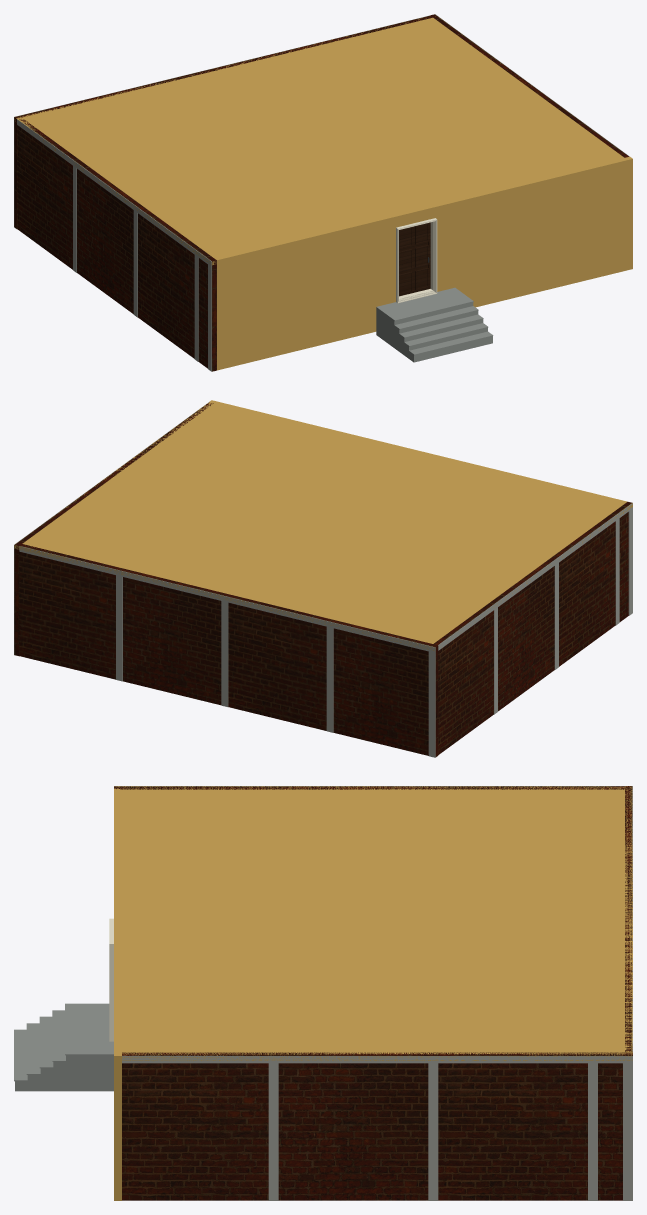
Rendered from building.glb.
3 views of the same model, one above another, from view 1: azimuth 30°, elevation 25°; view 2: azimuth 150°, elevation 25°; view 3: azimuth 270°, elevation 25° (orthographic). The views are drawn at different scales.
Parts seen in each view (by area): view 1: roof/house:0/roof_slab#0001, house:0/edge0/z0/house:0/edge0/z0/wall_0_0, house:0/edge3/z0/house:0/edge3/z0/wall_0_0, entrance/escalinata_ancha/entrance_steps#0001, house:0/edge2/z0/house:0/edge2/z0/wall_0_0, house:0/edge3/z0/house:0/edge3/z0/beam_0_0, house:0/edge1/z0/house:0/edge1/z0/wall_0_0, house:0/edge3/z0/house:0/edge3/z0/column_3_0, house:0/edge3/z0/house:0/edge3/z0/column_4_0; view 2: roof/house:0/roof_slab#0001, house:0/edge2/z0/house:0/edge2/z0/wall_0_0, house:0/edge3/z0/house:0/edge3/z0/wall_0_0, house:0/edge2/z0/house:0/edge2/z0/beam_0_0, house:0/edge1/z0/house:0/edge1/z0/wall_0_0, house:0/edge0/z0/house:0/edge0/z0/wall_0_0, house:0/edge3/z0/house:0/edge3/z0/beam_0_0, house:0/edge2/z0/house:0/edge2/z0/column_1_0, house:0/edge2/z0/house:0/edge2/z0/column_4_0, house:0/edge2/z0/house:0/edge2/z0/column_3_0, house:0/edge2/z0/house:0/edge2/z0/column_2_0, house:0/edge3/z0/house:0/edge3/z0/column_4_0 (+2 smaller); view 3: roof/house:0/roof_slab#0001, house:0/edge1/z0/house:0/edge1/z0/wall_0_0, entrance/escalinata_ancha/entrance_steps#0001, house:0/edge1/z0/house:0/edge1/z0/beam_0_0, house:0/edge0/z0/house:0/edge0/z0/wall_0_0, house:0/edge3/z0/house:0/edge3/z0/wall_0_0, house:0/edge2/z0/house:0/edge2/z0/wall_0_0, house:0/edge1/z0/house:0/edge1/z0/column_2_0, house:0/edge1/z0/house:0/edge1/z0/column_3_0, house:0/edge1/z0/house:0/edge1/z0/column_1_0, house:0/edge1/z0/house:0/edge1/z0/column_4_0, house:0/edge0/z0/opening_u7.00_v0.90/door_moulding#0028.
Part boxes in pixels (x1,y1,x2,y2): roof/house:0/roof_slab#0001: (14,16,632,265); house:0/edge0/z0/house:0/edge0/z0/wall_0_0: (214,156,632,370); house:0/edge3/z0/house:0/edge3/z0/wall_0_0: (17,119,216,371); entrance/escalinata_ancha/entrance_steps#0001: (376,287,492,362); house:0/edge2/z0/house:0/edge2/z0/wall_0_0: (14,15,432,228); house:0/edge3/z0/house:0/edge3/z0/beam_0_0: (17,119,211,266); house:0/edge1/z0/house:0/edge1/z0/wall_0_0: (430,14,628,157); house:0/edge3/z0/house:0/edge3/z0/column_3_0: (133,210,137,317); house:0/edge3/z0/house:0/edge3/z0/column_4_0: (194,255,198,361); roof/house:0/roof_slab#0001: (14,400,632,650); house:0/edge2/z0/house:0/edge2/z0/wall_0_0: (19,544,438,757); house:0/edge3/z0/house:0/edge3/z0/wall_0_0: (433,501,632,754); house:0/edge2/z0/house:0/edge2/z0/beam_0_0: (19,546,435,652); house:0/edge1/z0/house:0/edge1/z0/wall_0_0: (14,402,213,655); house:0/edge0/z0/house:0/edge0/z0/wall_0_0: (209,400,626,503); house:0/edge3/z0/house:0/edge3/z0/beam_0_0: (438,503,632,650); house:0/edge2/z0/house:0/edge2/z0/column_1_0: (428,651,435,757); house:0/edge2/z0/house:0/edge2/z0/column_4_0: (326,626,333,732); house:0/edge2/z0/house:0/edge2/z0/column_3_0: (221,601,228,706); house:0/edge2/z0/house:0/edge2/z0/column_2_0: (116,575,122,681); house:0/edge3/z0/house:0/edge3/z0/column_4_0: (615,518,619,625); roof/house:0/roof_slab#0001: (114,786,632,1061); house:0/edge1/z0/house:0/edge1/z0/wall_0_0: (122,1052,632,1200); entrance/escalinata_ancha/entrance_steps#0001: (15,1003,113,1091); house:0/edge1/z0/house:0/edge1/z0/beam_0_0: (122,1055,632,1063); house:0/edge0/z0/house:0/edge0/z0/wall_0_0: (114,789,121,1200); house:0/edge3/z0/house:0/edge3/z0/wall_0_0: (114,786,624,789); house:0/edge2/z0/house:0/edge2/z0/wall_0_0: (625,786,632,1052); house:0/edge1/z0/house:0/edge1/z0/column_2_0: (268,1063,278,1200); house:0/edge1/z0/house:0/edge1/z0/column_3_0: (428,1063,438,1200); house:0/edge1/z0/house:0/edge1/z0/column_1_0: (623,1063,632,1200); house:0/edge1/z0/house:0/edge1/z0/column_4_0: (588,1063,597,1200); house:0/edge0/z0/opening_u7.00_v0.90/door_moulding#0028: (109,918,113,1041).
Size of the model in its own units: 16 by 4.12 by 15.51.
7 materials, 2 textured.
